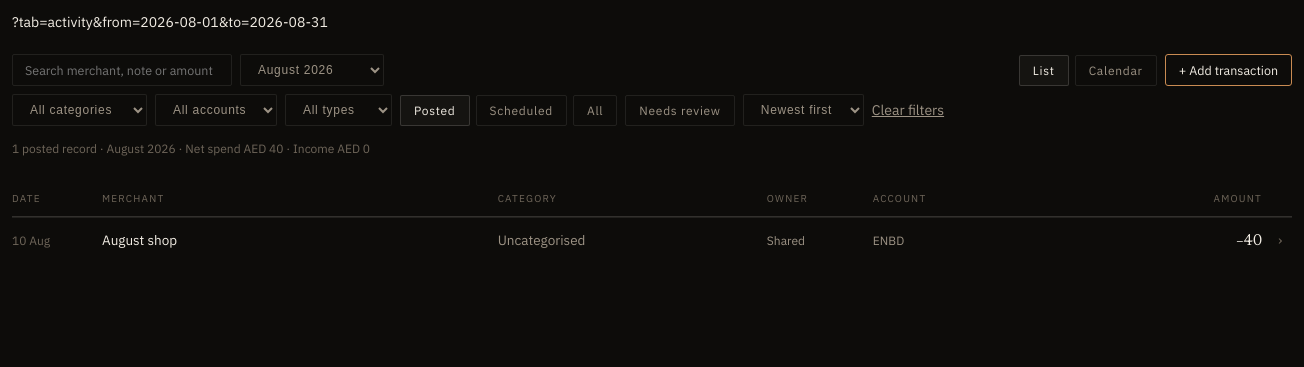
it: Activity date select and other filters › names a linked range that is not a preset, and offers custom dates
Check: the text "August shop" is shown, box [102,231,177,249]
Select "Custom dates…" in the dropdown named "Dates" at (312, 70), box [240,54,384,86]
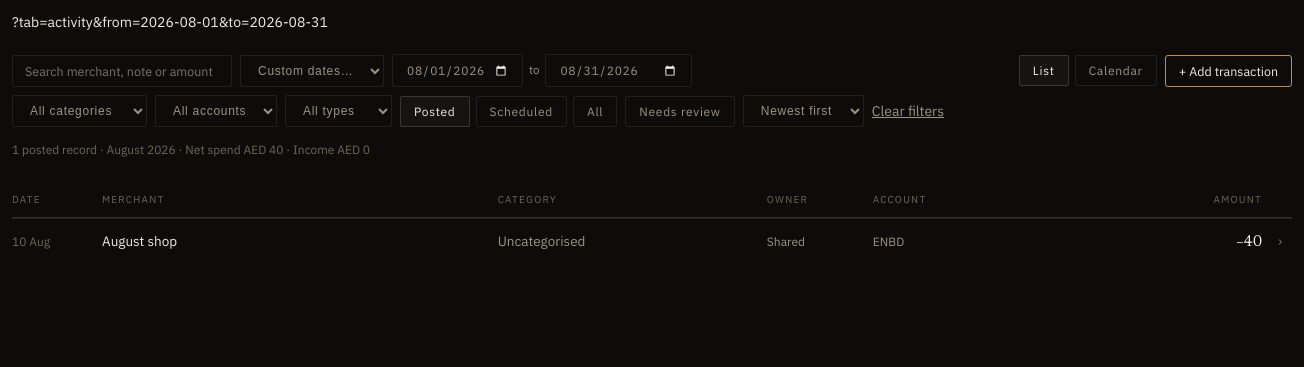
Type "2026-10-01" into the date field named "From" at (458, 71), box [392,54,523,87]
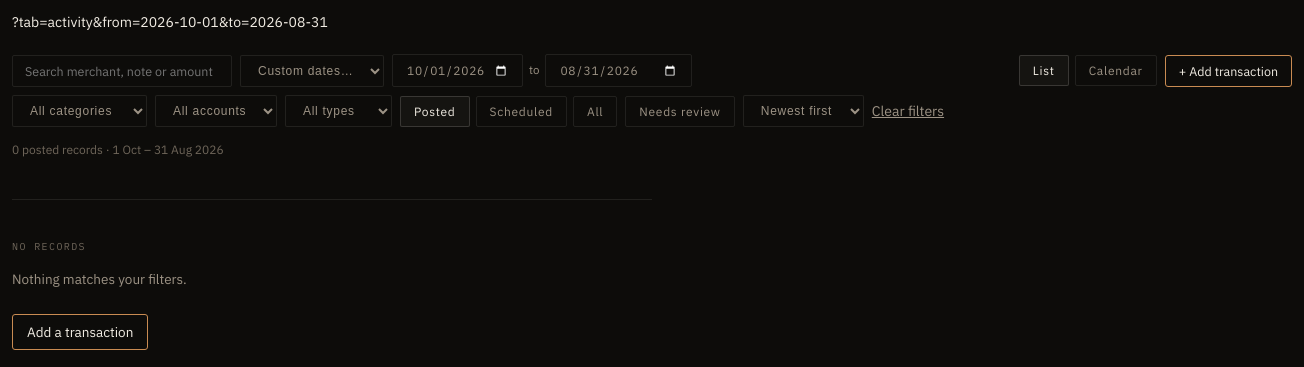
Type "2026-10-31" into the date field named "To" at (619, 71), box [545,54,692,87]
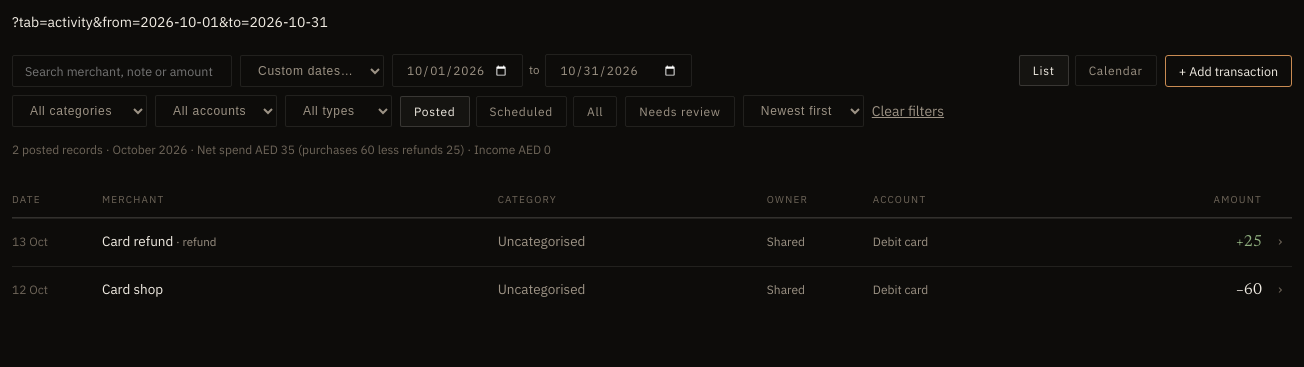
Check: the button "August shop" is not shown
Check: the text with test id "location" reads "?tab=activity&from=2026-10-01&to=2026-10-31", box [12,13,328,31]
